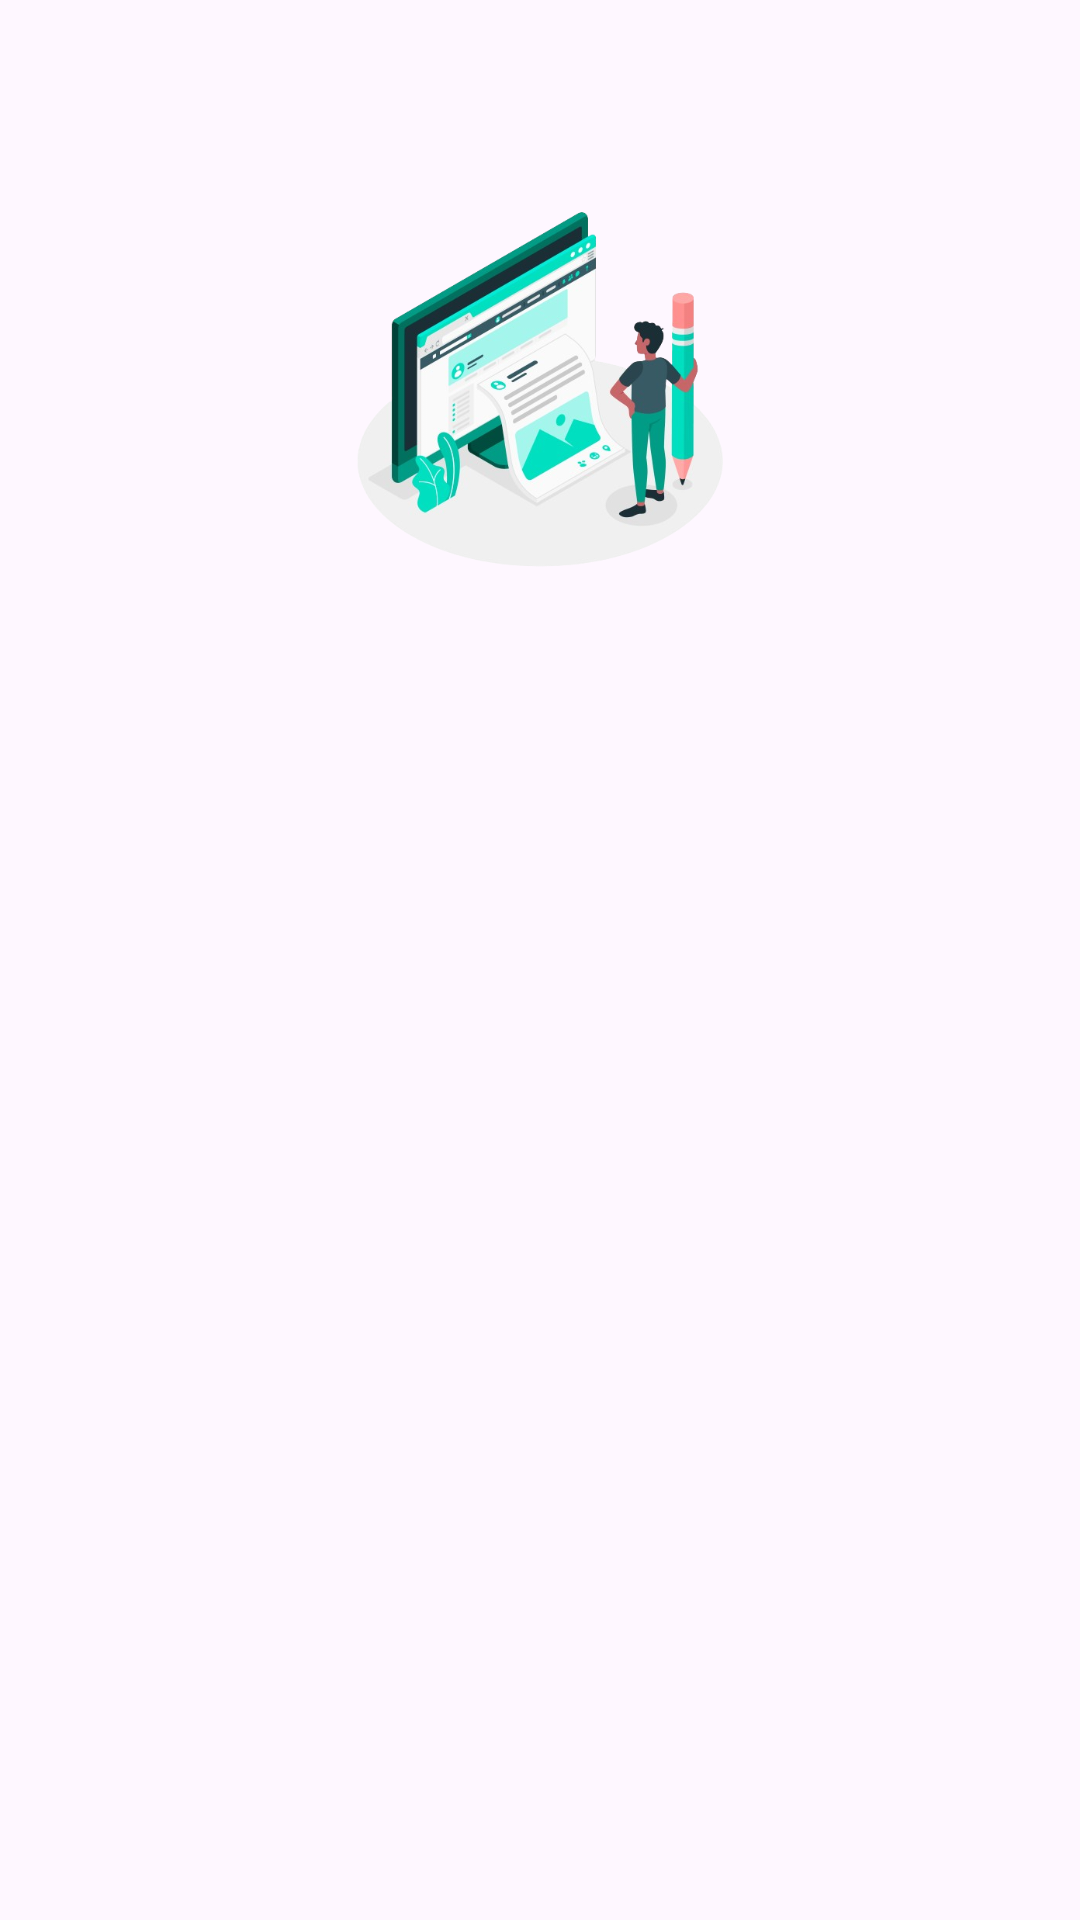

Where to tap for icons on this 1080 × 1920 app screen, as (x=x, y=y):
register: (x=533, y=369)
